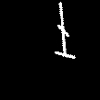double_crochet: (55, 2, 74, 58)
